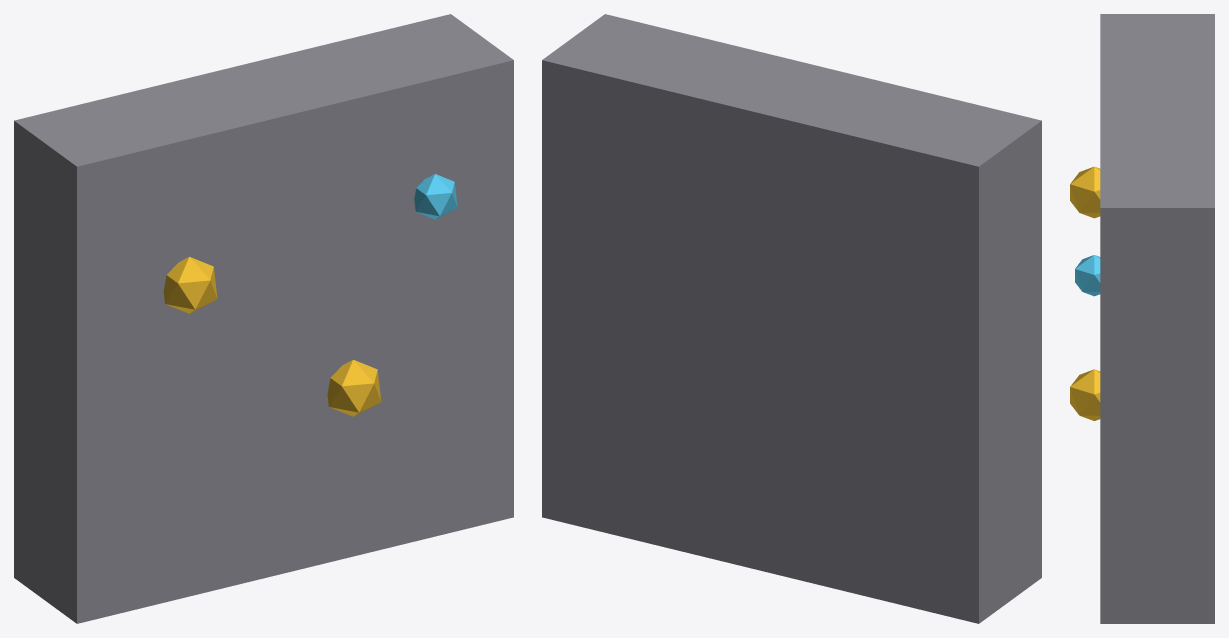
The model's file is ore_vein_wall.glb.
3 views of the same model, side by side, from view 1: azimuth 30°, elevation 25°; view 2: azimuth 150°, elevation 25°; view 3: azimuth 270°, elevation 25° (orthographic). The views are drawn at different scales.
Parts seen in each view (by area): view 1: ore_vein_wall; view 2: ore_vein_wall; view 3: ore_vein_wall.
Boxes of the visible parts, x1,y1,x2,y2 form: ore_vein_wall: (14, 14, 513, 623); ore_vein_wall: (542, 14, 1041, 623); ore_vein_wall: (1070, 14, 1214, 623).
Bounding box in the file's own units: 1.6 × 1.6 × 0.5051.
